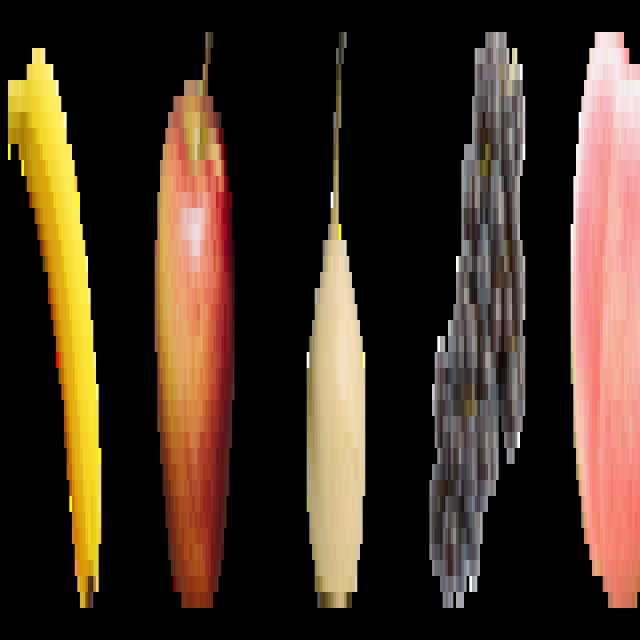apple: (150, 16, 243, 625)
bananas: (5, 22, 106, 634)
grape: (425, 7, 534, 626)
pear: (291, 13, 381, 622)
